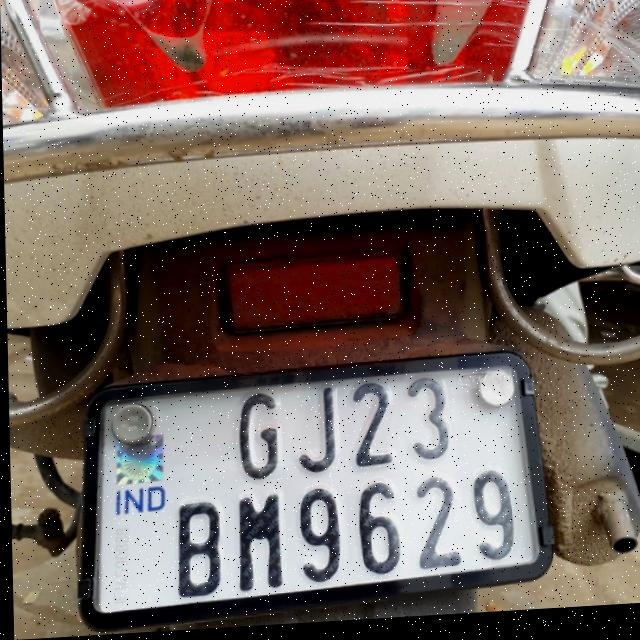plate: (70, 351, 554, 631)
